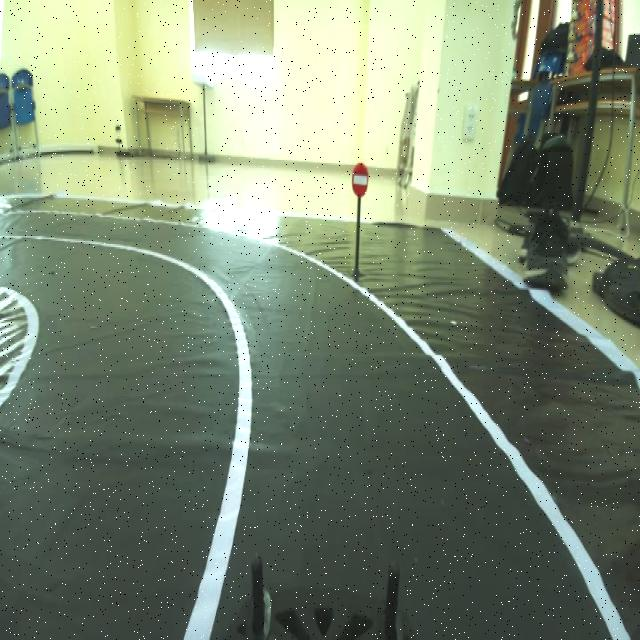no_entry: (349, 158, 374, 198)
